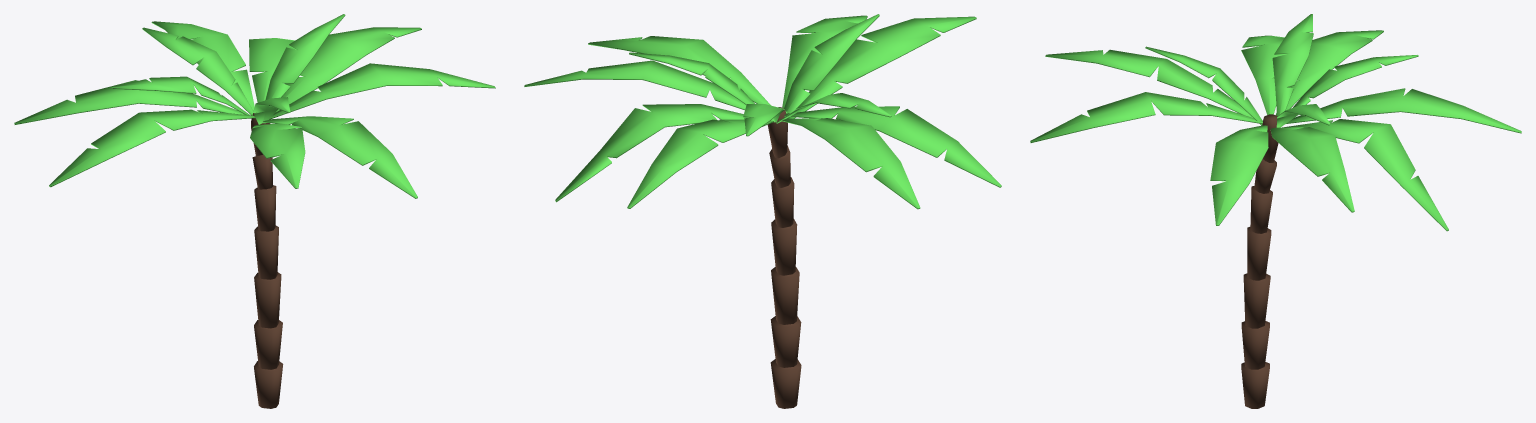
The model's file is PalmTree_Small.fbx.
The picture shows the model from 3 angles, left to right: view 1: azimuth 30°, elevation 25°; view 2: azimuth 150°, elevation 25°; view 3: azimuth 270°, elevation 25°; orthographic projection. The views are drawn at different scales.
Parts seen in each view (by area): view 1: Leaves.001, Trunk; view 2: Leaves.001, Trunk; view 3: Leaves.001, Trunk.
Boxes of the visible parts, x1=… form: Leaves.001: x1=14, y1=14, x2=495, y2=198; Trunk: x1=251, y1=112, x2=283, y2=408; Leaves.001: x1=524, y1=14, x2=1001, y2=209; Trunk: x1=767, y1=107, x2=801, y2=408; Leaves.001: x1=1030, y1=14, x2=1521, y2=231; Trunk: x1=1241, y1=114, x2=1278, y2=408.
Bounding box in the file's own units: 1064 × 827 × 1078.
